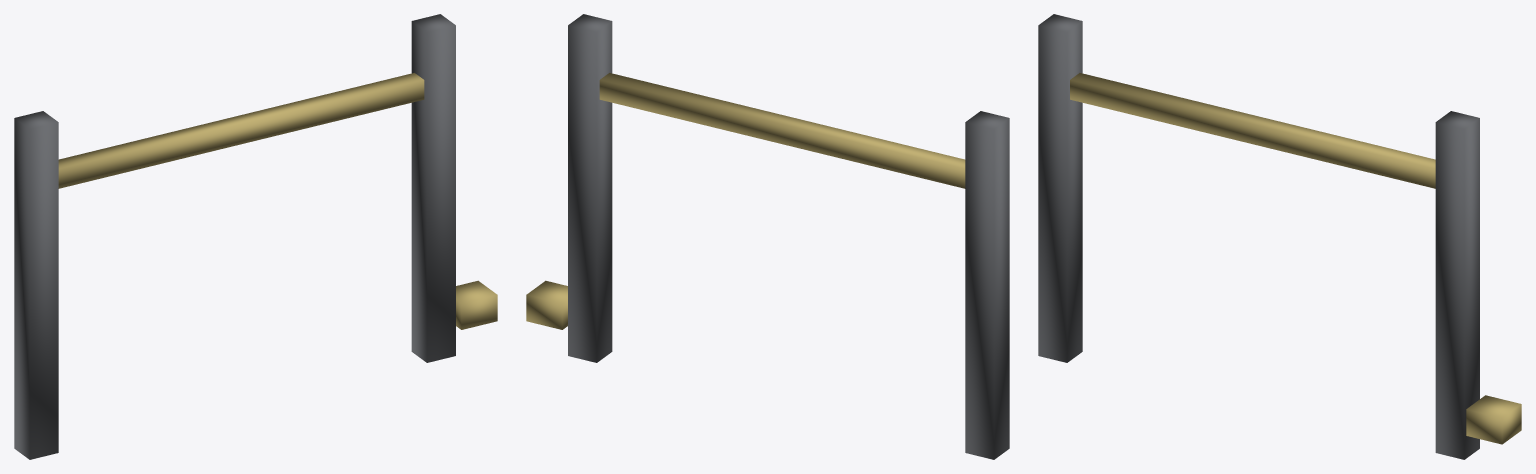
File: queue_gate_08.glb
The picture shows the model from 3 angles, left to right: view 1: azimuth 30°, elevation 25°; view 2: azimuth 150°, elevation 25°; view 3: azimuth 330°, elevation 25°; orthographic projection.
Parts seen in each view (by area): view 1: world; view 2: world; view 3: world.
Boxes of the visible parts, box(x1,y1,x2,y2) form: world: box(14, 14, 497, 459); world: box(526, 14, 1009, 459); world: box(1038, 14, 1521, 459).
Bounding box in the file's own units: 1.44 × 0.98 × 0.104.
